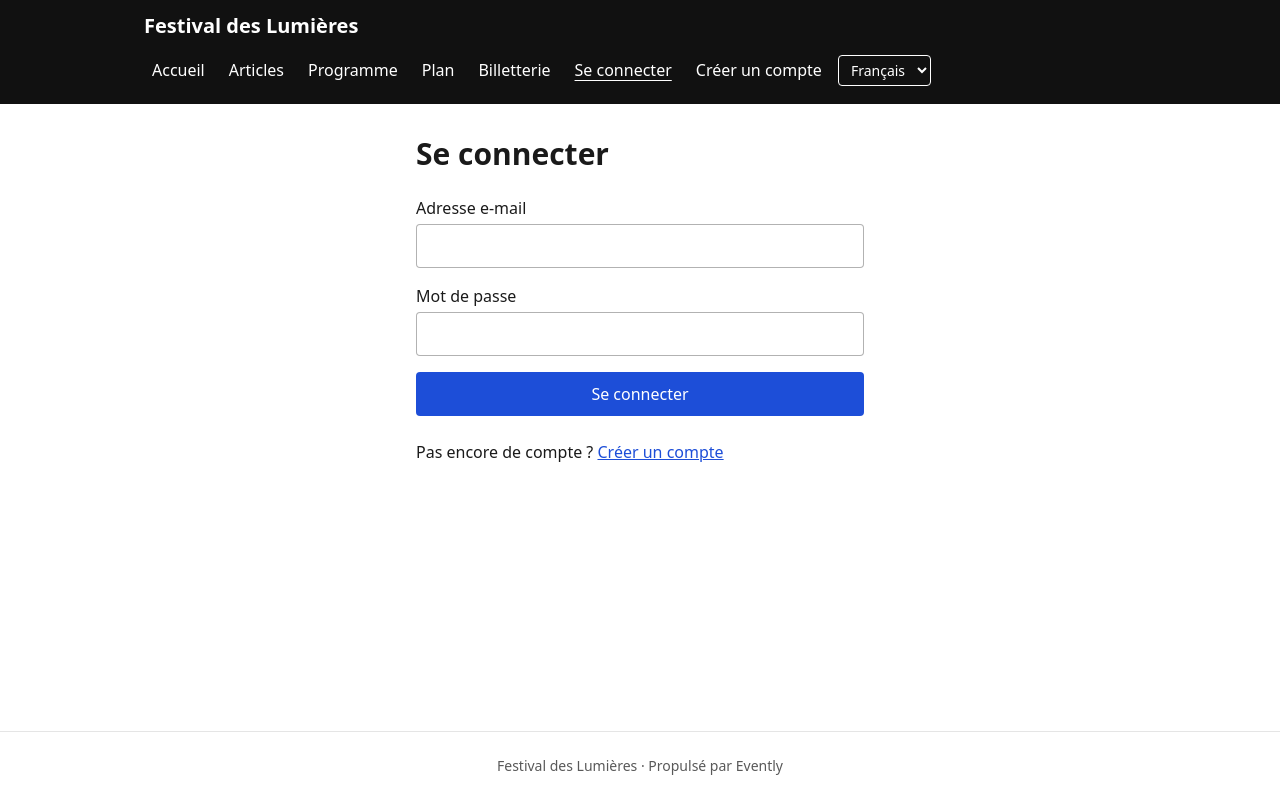
Test case: login and registration › shows the API error message when the login fails
The width and height of the screenshot is (1280, 800).
Type "ana@example.com" into the field labelled "Adresse e-mail" at (640, 246), box [416,224,864,268]
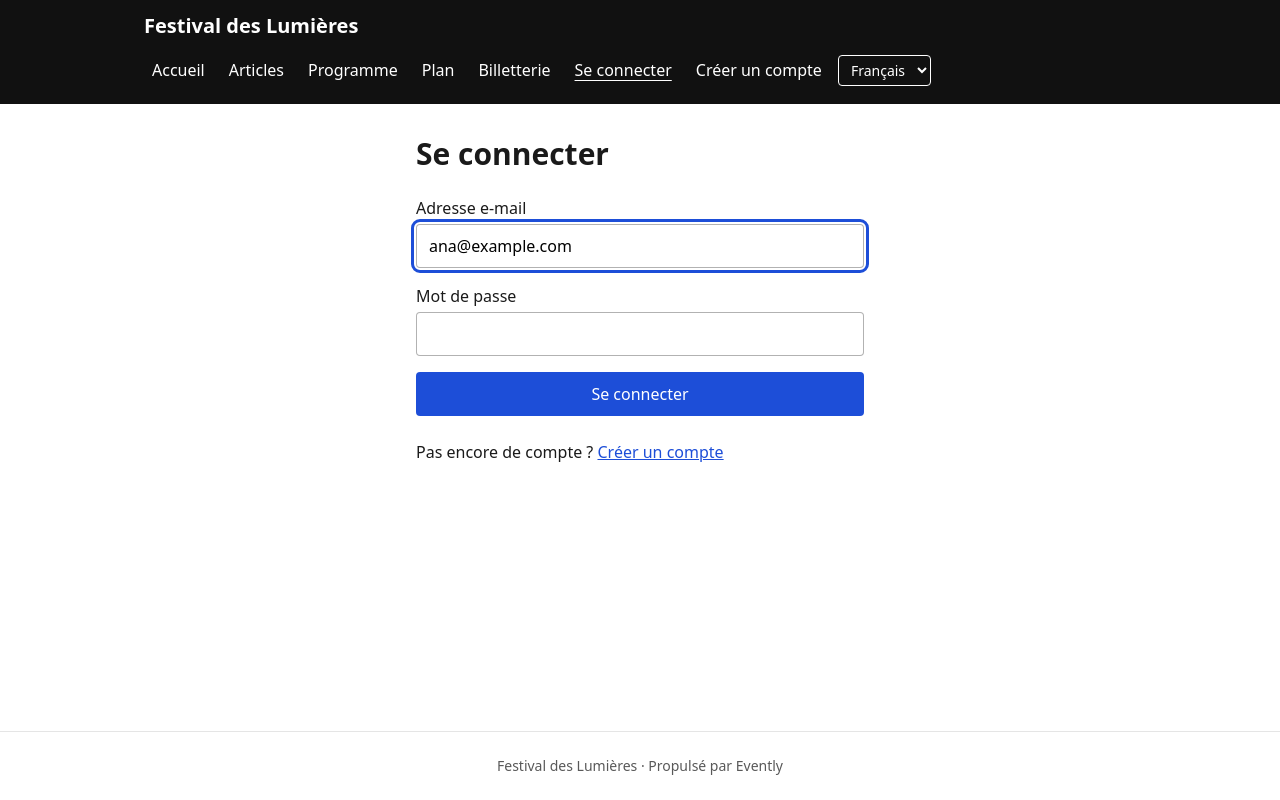
Type "wrong" into the password field labelled "Mot de passe" at (640, 334), box [416,312,864,356]
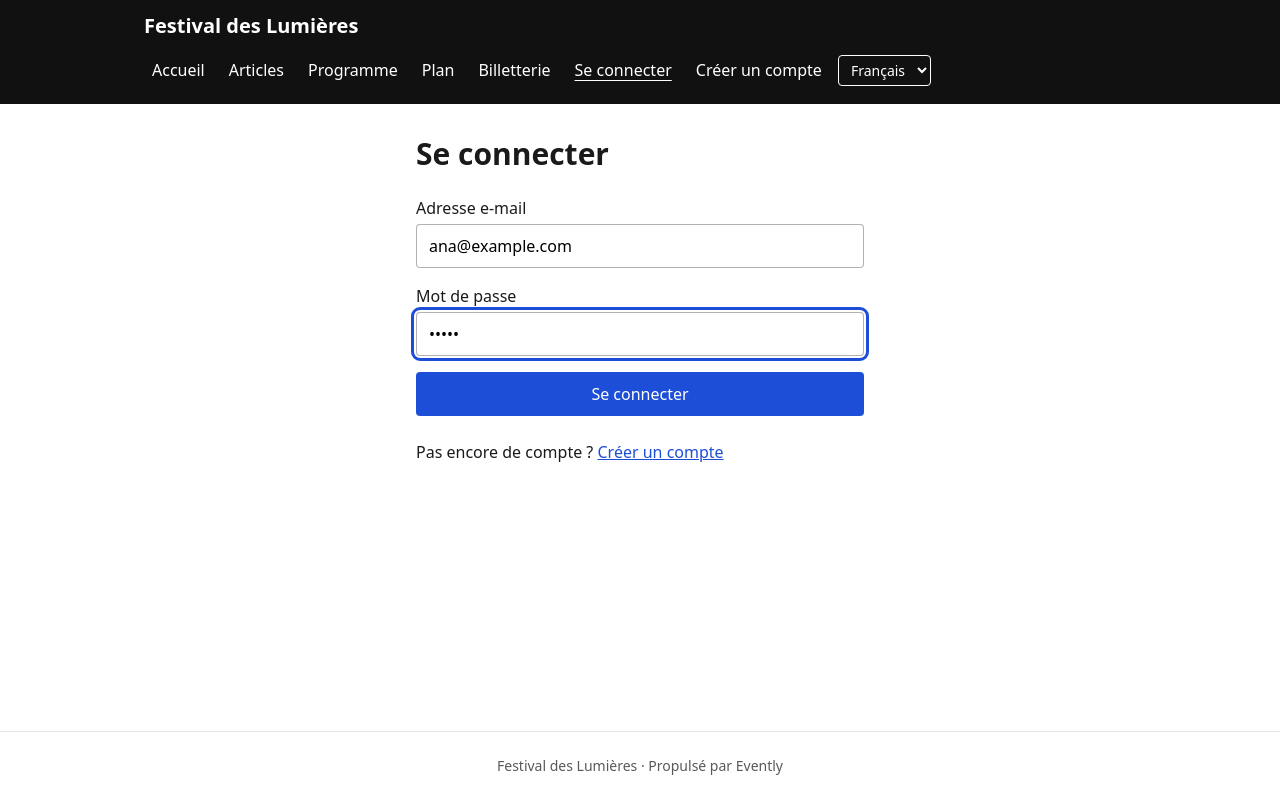
Click the button "Se connecter" at (640, 394), box [416,372,864,416]
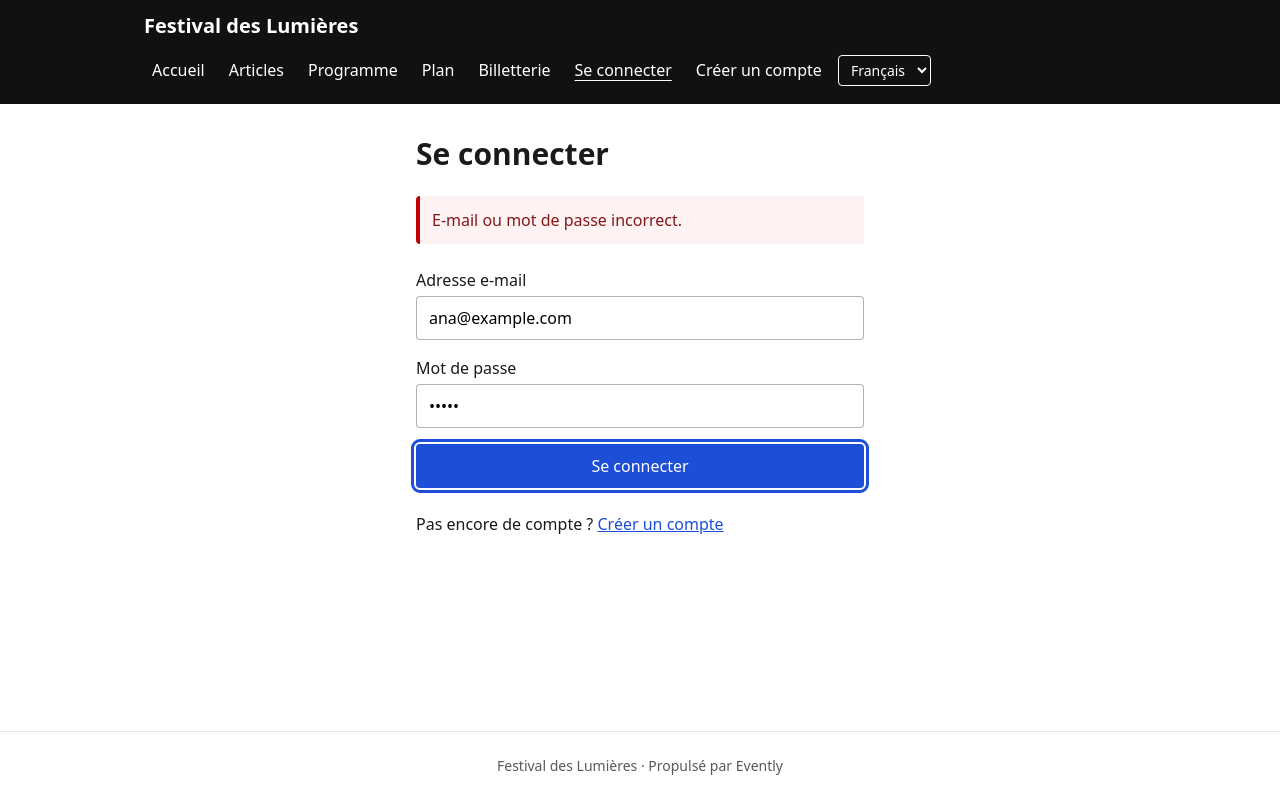
Now the message reads "E-mail ou mot de passe incorrect.", box [432,209,682,231]
